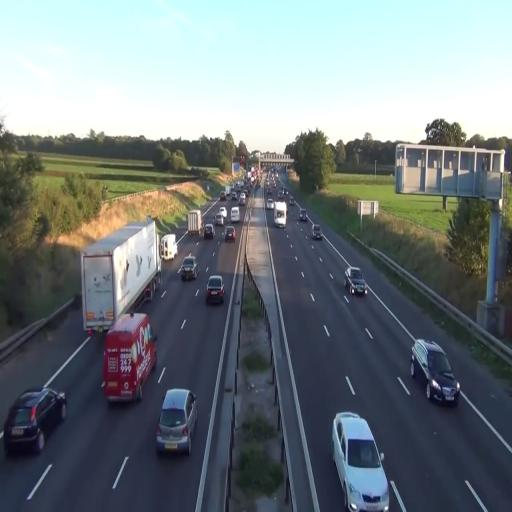vehicle: (81, 217, 162, 337), (81, 218, 161, 334), (81, 222, 161, 334), (332, 411, 390, 511), (332, 412, 389, 511), (102, 312, 157, 404), (104, 313, 157, 402), (2, 388, 67, 455), (4, 388, 66, 456), (410, 340, 460, 405), (411, 340, 459, 406), (156, 387, 198, 456), (156, 389, 197, 455), (344, 267, 368, 298), (344, 267, 367, 296), (205, 275, 225, 307), (206, 276, 224, 304), (180, 256, 198, 282), (180, 256, 199, 280), (160, 234, 177, 260), (188, 210, 203, 235), (274, 202, 287, 228), (274, 202, 287, 227), (202, 223, 215, 239), (312, 224, 322, 240), (230, 207, 240, 223), (204, 224, 215, 238), (225, 227, 235, 241), (312, 224, 321, 238), (215, 213, 223, 226), (219, 207, 227, 218), (300, 209, 307, 221), (239, 194, 245, 206), (225, 186, 232, 195), (267, 199, 273, 209), (244, 185, 249, 197), (220, 192, 226, 201), (240, 191, 246, 199), (278, 192, 283, 200), (232, 192, 237, 200), (290, 197, 295, 205), (267, 189, 272, 195), (236, 185, 240, 192), (283, 188, 287, 194), (272, 182, 275, 187)
